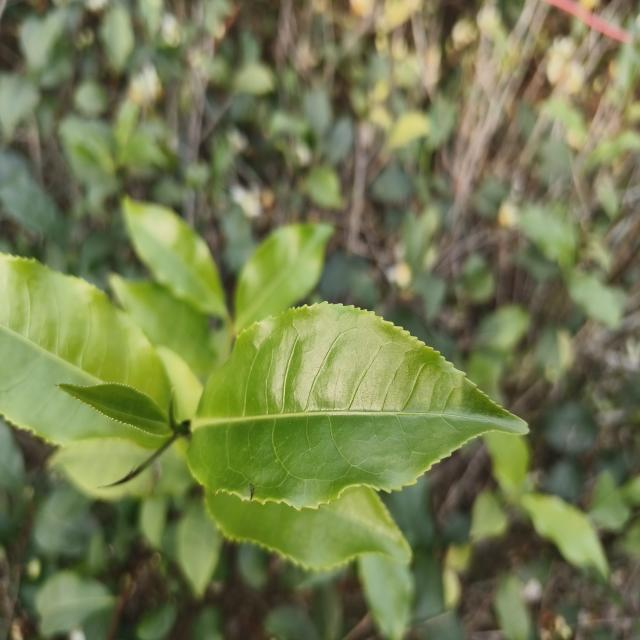Leaf: (189, 303, 527, 509), (0, 254, 169, 446), (206, 486, 411, 570), (122, 197, 228, 319), (235, 223, 334, 333), (110, 274, 216, 376), (520, 493, 609, 578), (50, 439, 155, 501), (57, 383, 172, 436), (35, 571, 114, 636), (358, 553, 414, 640), (0, 174, 66, 243), (177, 498, 222, 597), (568, 274, 624, 329), (544, 402, 598, 454), (0, 74, 40, 139), (494, 574, 531, 640), (100, 3, 135, 72), (413, 558, 445, 622), (470, 490, 508, 541), (263, 605, 318, 640), (303, 166, 343, 209), (0, 419, 24, 489), (412, 272, 446, 321), (139, 496, 168, 548)
